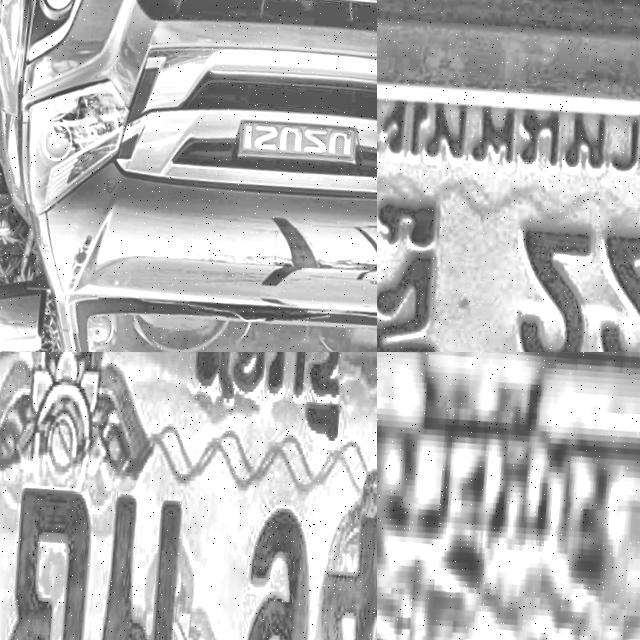license-plate: (0, 352, 377, 640), (377, 0, 640, 352), (377, 352, 640, 640)
